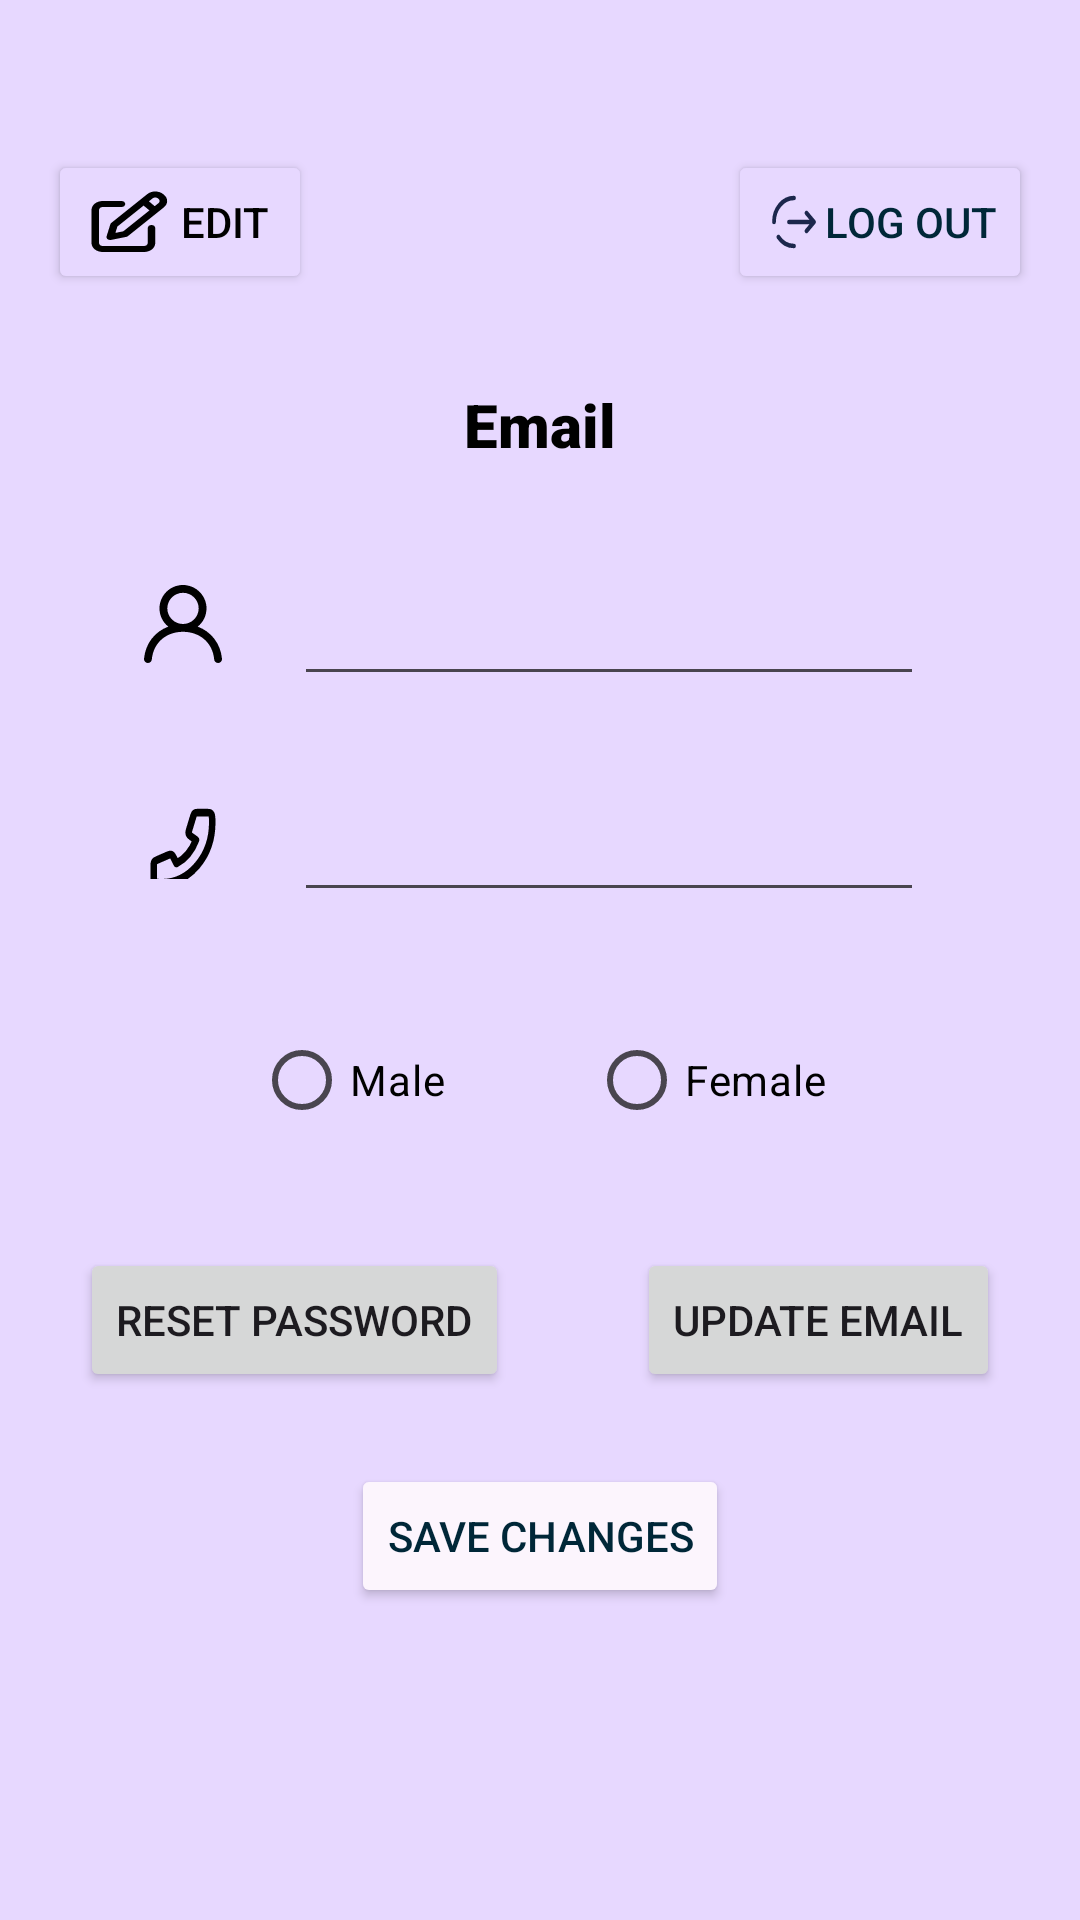

Icons on this 1080w x 1920h Android screen, each with its box as bbox=[x1, y1, x2, y2]:
phonenumber: bbox=[150, 808, 216, 879]
profile: bbox=[144, 585, 222, 663]
